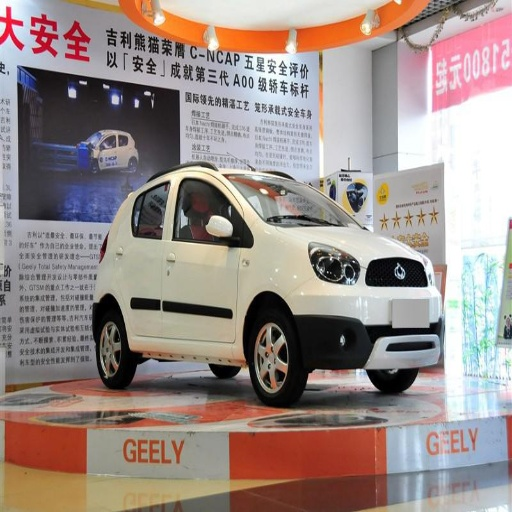front_bumper: (296, 250, 442, 367)
front_right_door: (163, 171, 241, 341)
front_right_light: (309, 243, 358, 285)
